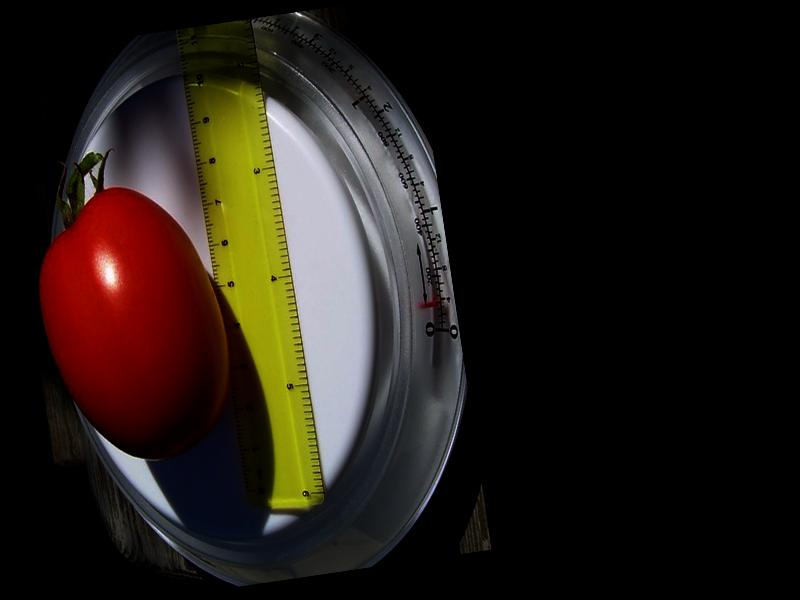Tomato: (23, 172, 247, 472)
